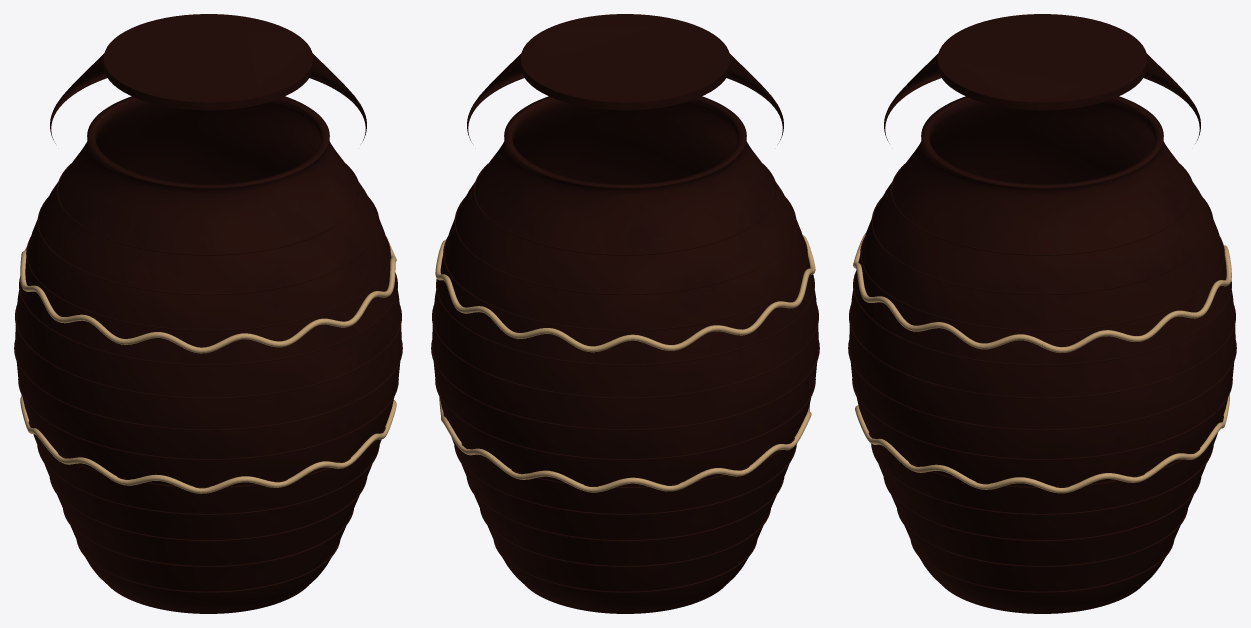
The model's file is bcm-1116.glb.
The picture shows the model from 3 angles, left to right: view 1: azimuth 30°, elevation 25°; view 2: azimuth 150°, elevation 25°; view 3: azimuth 270°, elevation 25°; orthographic projection.
Visible parts, largest first — view 1: Continuous hollow vessel with formed lip, Finger-drawn glaze motif (approximate); view 2: Continuous hollow vessel with formed lip, Finger-drawn glaze motif (approximate); view 3: Continuous hollow vessel with formed lip, Finger-drawn glaze motif (approximate).
Part boxes in pixels (bbox=[...]): Continuous hollow vessel with formed lip: bbox=[14, 14, 402, 613]; Finger-drawn glaze motif (approximate): bbox=[20, 235, 396, 493]; Continuous hollow vessel with formed lip: bbox=[431, 14, 819, 613]; Finger-drawn glaze motif (approximate): bbox=[435, 234, 815, 492]; Continuous hollow vessel with formed lip: bbox=[848, 14, 1236, 613]; Finger-drawn glaze motif (approximate): bbox=[853, 232, 1231, 493].
Bounding box in the file's own units: 0.8969 × 1.3 × 0.8969.
